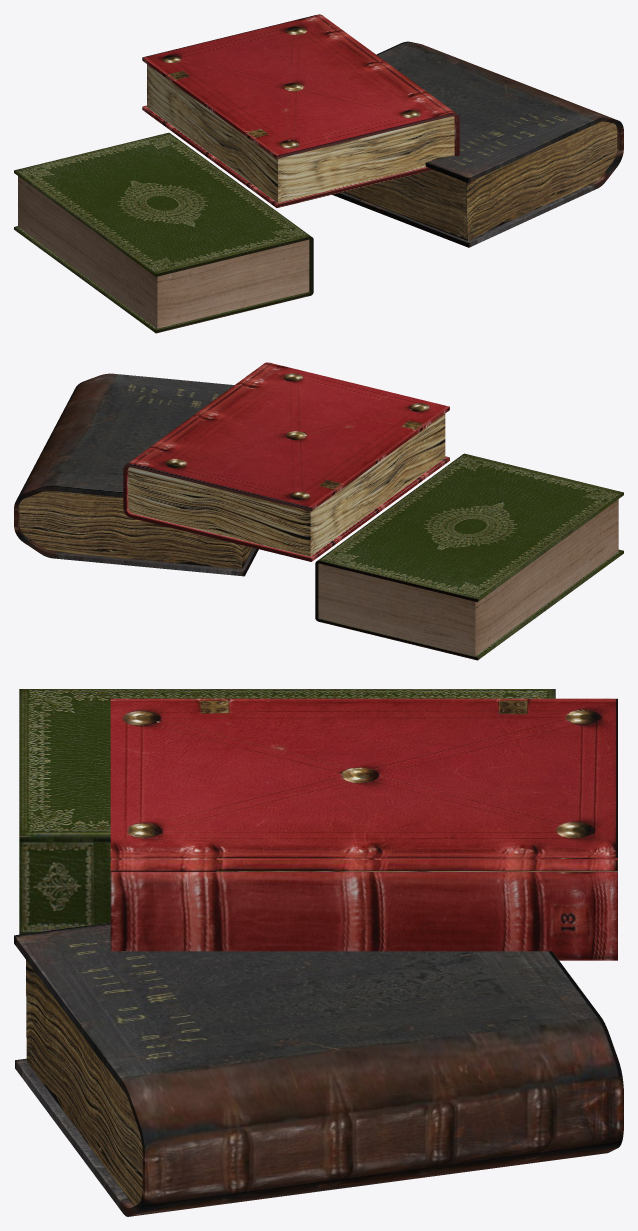
Rendered from Book 3.fbx.
The picture shows the model from 3 angles, top to bottom: view 1: azimuth 30°, elevation 25°; view 2: azimuth 150°, elevation 25°; view 3: azimuth 270°, elevation 25°; orthographic projection. The views are drawn at different scales.
Visible parts, largest first — view 1: Book_3; view 2: Book_3; view 3: Book_3.
Part boxes in pixels (<box>): Book_3: <box>14,14,623,333</box>; Book_3: <box>14,362,623,660</box>; Book_3: <box>14,689,623,1216</box>.
Bounding box in the file's own units: 2.81 × 0.6677 × 1.57.
3 materials, 3 textured.
